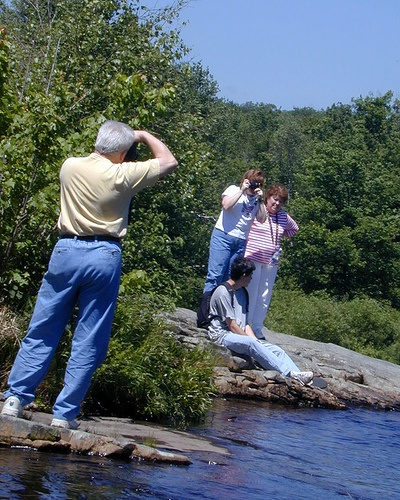head: (96, 121, 134, 163), (226, 255, 258, 293), (262, 183, 291, 214)
person: (0, 116, 178, 432), (207, 251, 305, 380), (198, 168, 271, 329), (241, 182, 298, 334)
